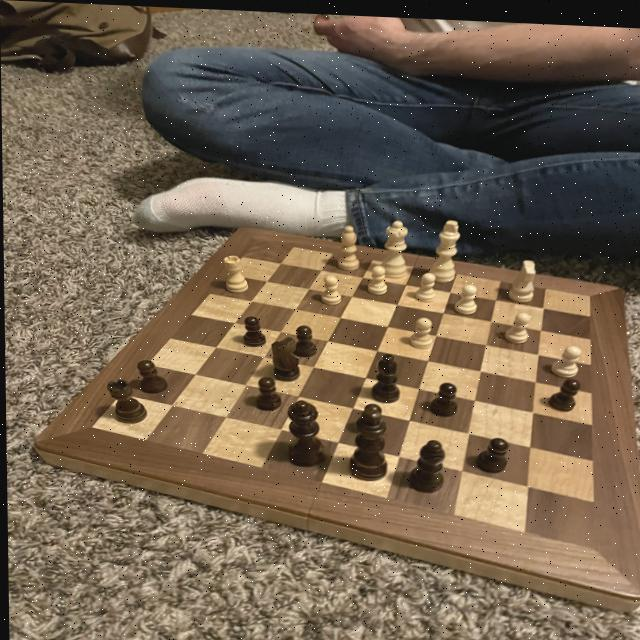bishop: (402, 433, 449, 492), (367, 346, 401, 403)
black-bishop: (342, 403, 392, 481)
black-king: (267, 332, 304, 381)
black-knight: (470, 429, 512, 473), (545, 370, 583, 409), (425, 375, 459, 417), (249, 372, 285, 411), (134, 357, 170, 396), (237, 311, 268, 348), (289, 320, 317, 359), (361, 399, 387, 427)
black-pawn: (280, 394, 330, 468)
black-queen: (102, 375, 150, 426)
black-rook: (334, 220, 363, 271)
white-bishop: (423, 214, 462, 283)
white-king: (503, 251, 542, 301)
white-knight: (547, 338, 585, 375), (502, 305, 534, 340), (405, 311, 437, 346), (453, 278, 482, 313), (320, 270, 345, 306), (412, 267, 438, 300), (364, 261, 390, 293)
white-pawn: (375, 215, 415, 278)
white-queen: (219, 251, 251, 294)
